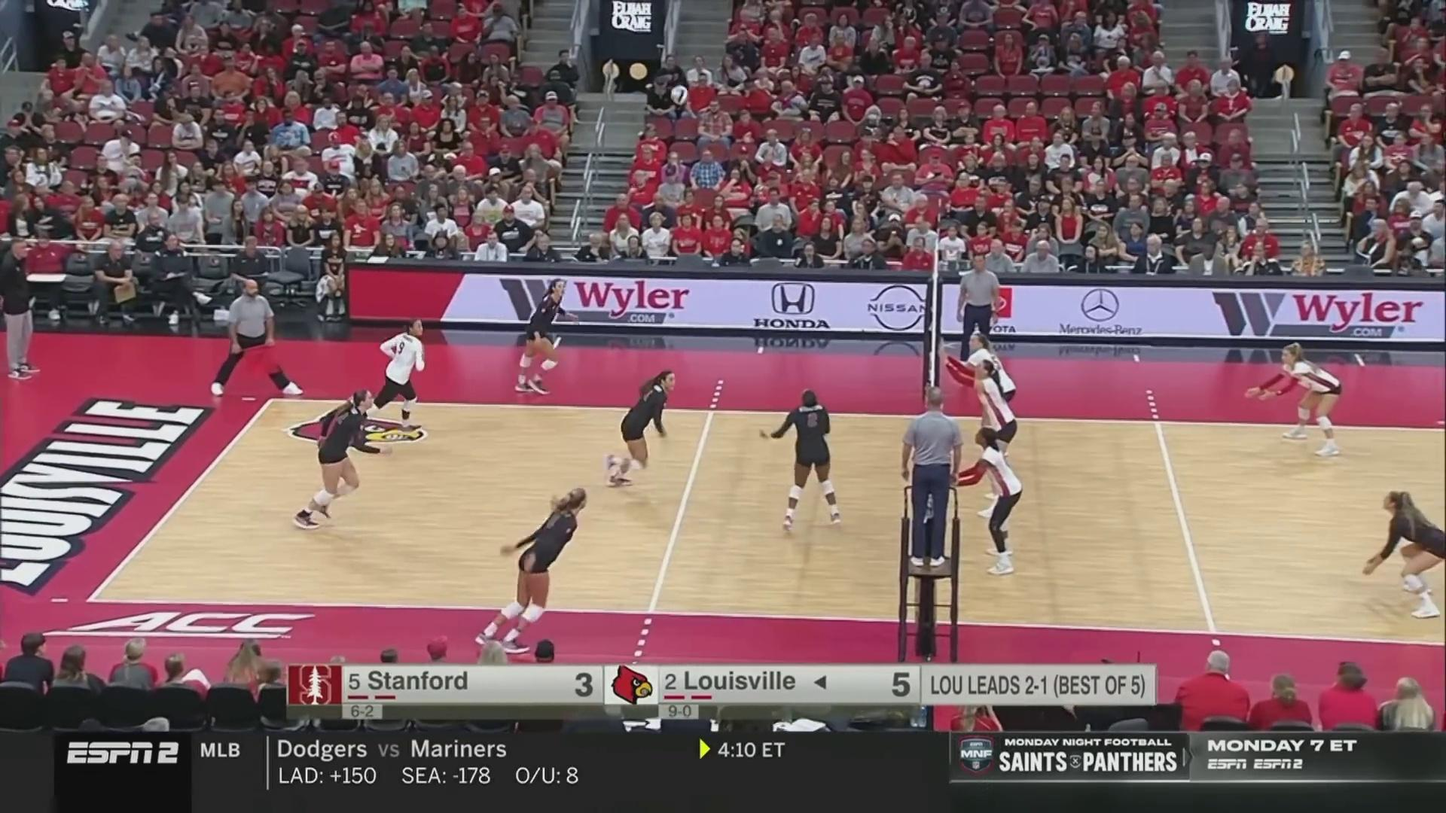player: (478, 488, 587, 658), (292, 390, 388, 528), (765, 391, 847, 533), (947, 358, 1016, 520), (949, 429, 1023, 576), (1363, 491, 1446, 621), (1250, 343, 1339, 453), (352, 322, 428, 429), (606, 372, 675, 487), (515, 279, 578, 394), (962, 333, 1016, 455)
refree: (212, 272, 303, 396), (902, 388, 962, 565), (957, 254, 1001, 372)
